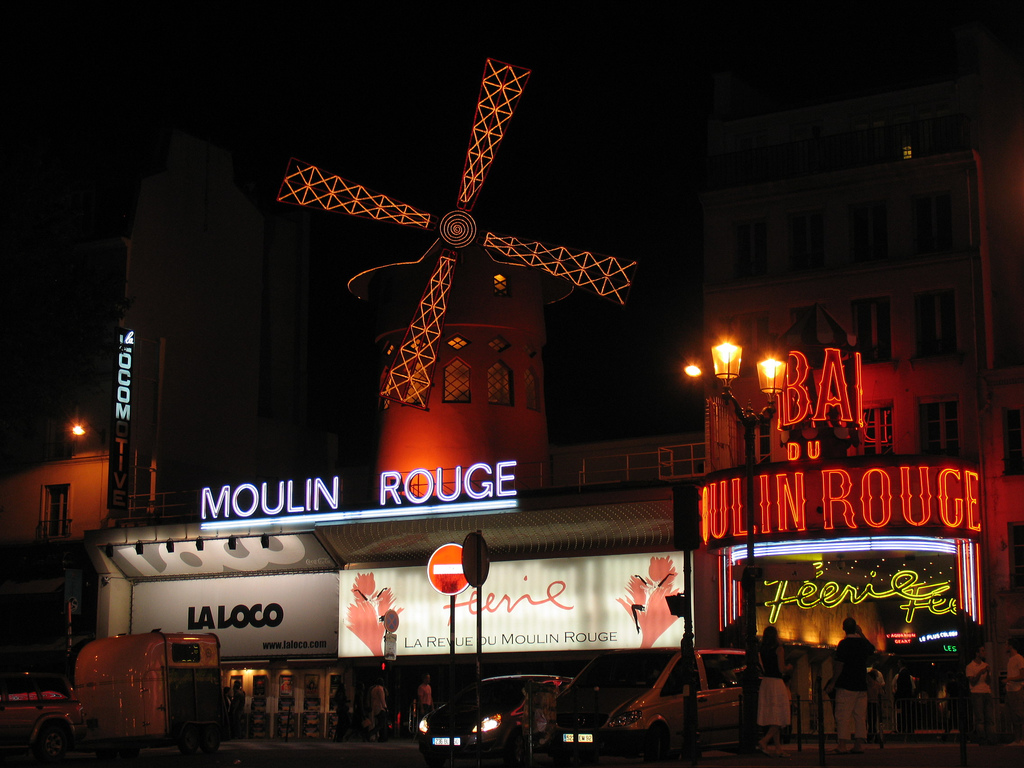car: (411, 672, 583, 763)
